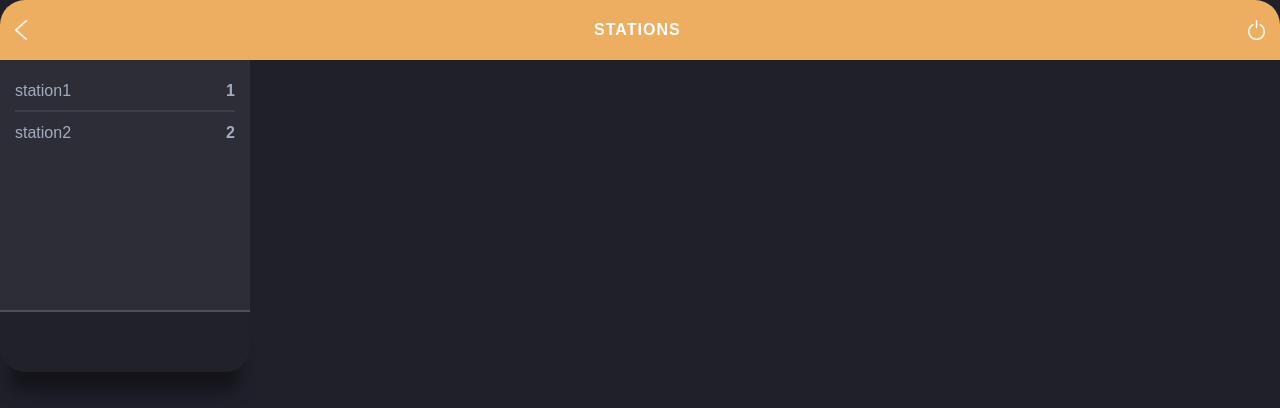
Test: Radio › currently playing changes when changing a station
This screenshot has width=1280, height=408.
Note: get elements
Click the button with test id "accordionBtn-1" at (125, 91), box [15,70,235,112]
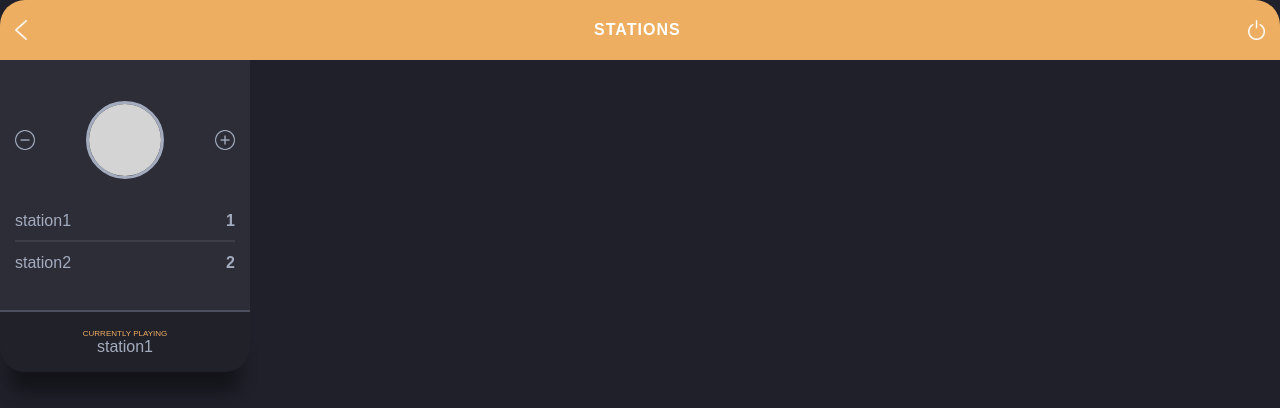
Check: the element with test id "currentlyPlayingText" reads "currently playing station1", box [83,328,167,356]
Click the button with test id "accordionBtn-2" at (125, 262), box [15,242,235,282]
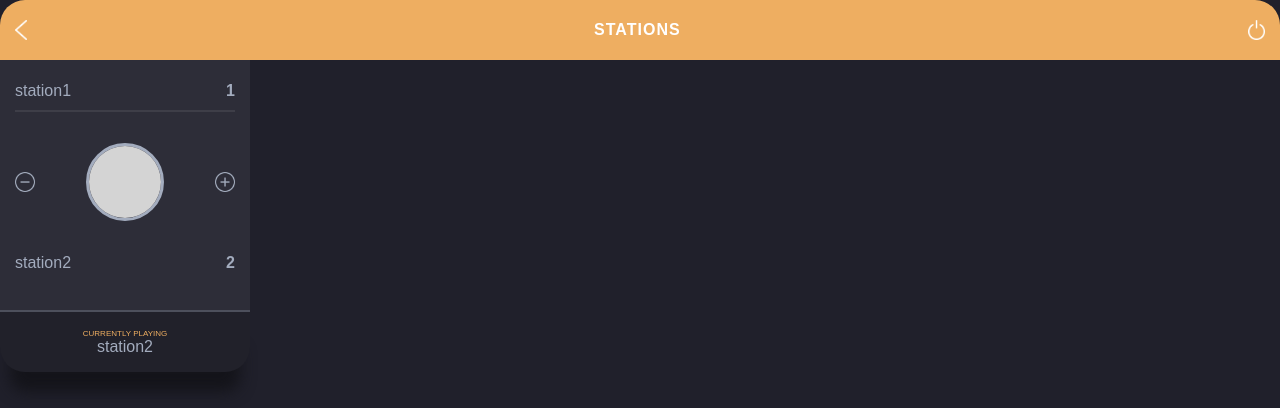
Check: the element with test id "currentlyPlayingText" reads "currently playing station2", box [83,328,167,356]
